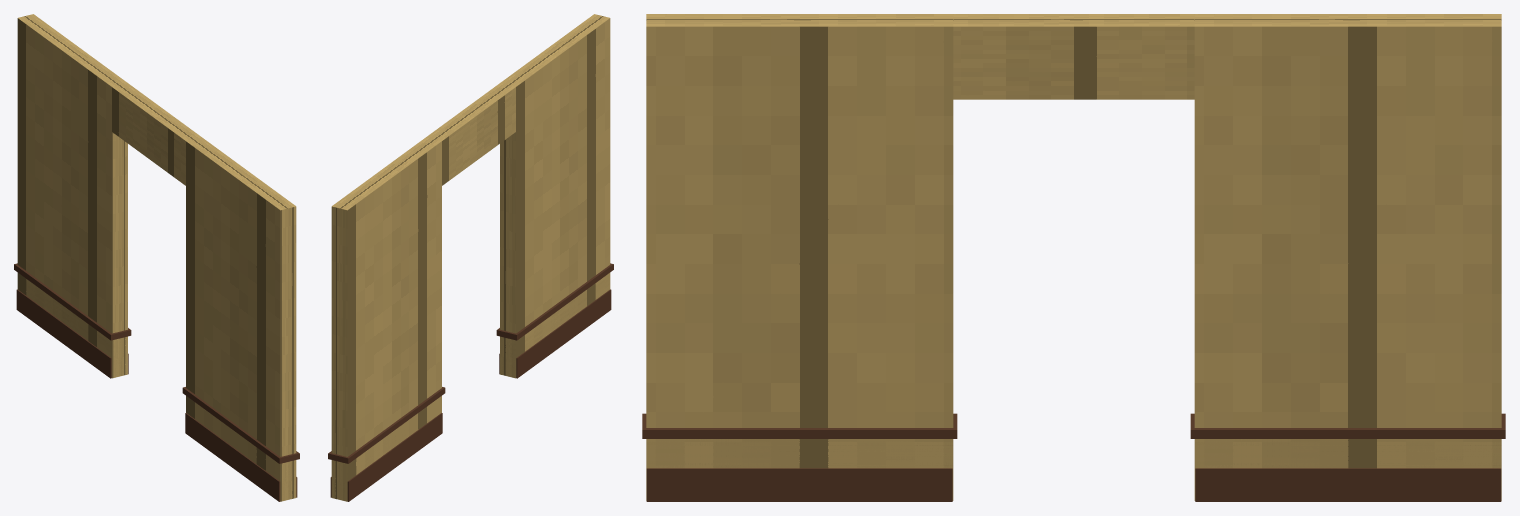
File: dining_kitchen.glb
3 views of the same model, side by side, from view 1: azimuth 30°, elevation 25°; view 2: azimuth 150°, elevation 25°; view 3: azimuth 270°, elevation 25° (orthographic). The views are drawn at different scales.
Parts seen in each view (by area): view 1: Box3, Box1, Box5, Box4, Box2, Box6, Box7, Box9, Box8; view 2: Box1, Box3, Box5, Box2, Box4, Box8, Box7, Box9; view 3: Box3, Box1, Box5, Box2, Box4, Box8, Box6, Box7, Box9.
Part boxes in pixels (x1,y1,x2,y2): Box3: (186,137,296,501); Box1: (17,14,127,378); Box5: (112,83,201,185); Box4: (185,413,297,501); Box2: (16,289,128,378); Box6: (17,273,127,377); Box7: (14,263,131,340); Box9: (182,387,299,463); Box8: (227,435,296,500); Box1: (331,137,441,501); Box3: (500,14,610,378); Box5: (426,83,515,185); Box2: (330,413,442,501); Box4: (499,289,611,378); Box8: (500,273,610,377); Box7: (328,387,445,463); Box9: (496,263,613,340); Box3: (646,14,953,500); Box1: (1194,14,1501,500); Box5: (953,14,1194,99); Box2: (1195,468,1501,501); Box4: (646,468,952,501); Box8: (646,439,953,498); Box6: (1194,439,1501,500); Box7: (1190,413,1505,438); Box9: (642,413,957,438).
Size of the model in its own units: 0.19 by 2.6 by 4.29.
Materials: 2 (1 with a texture image).
